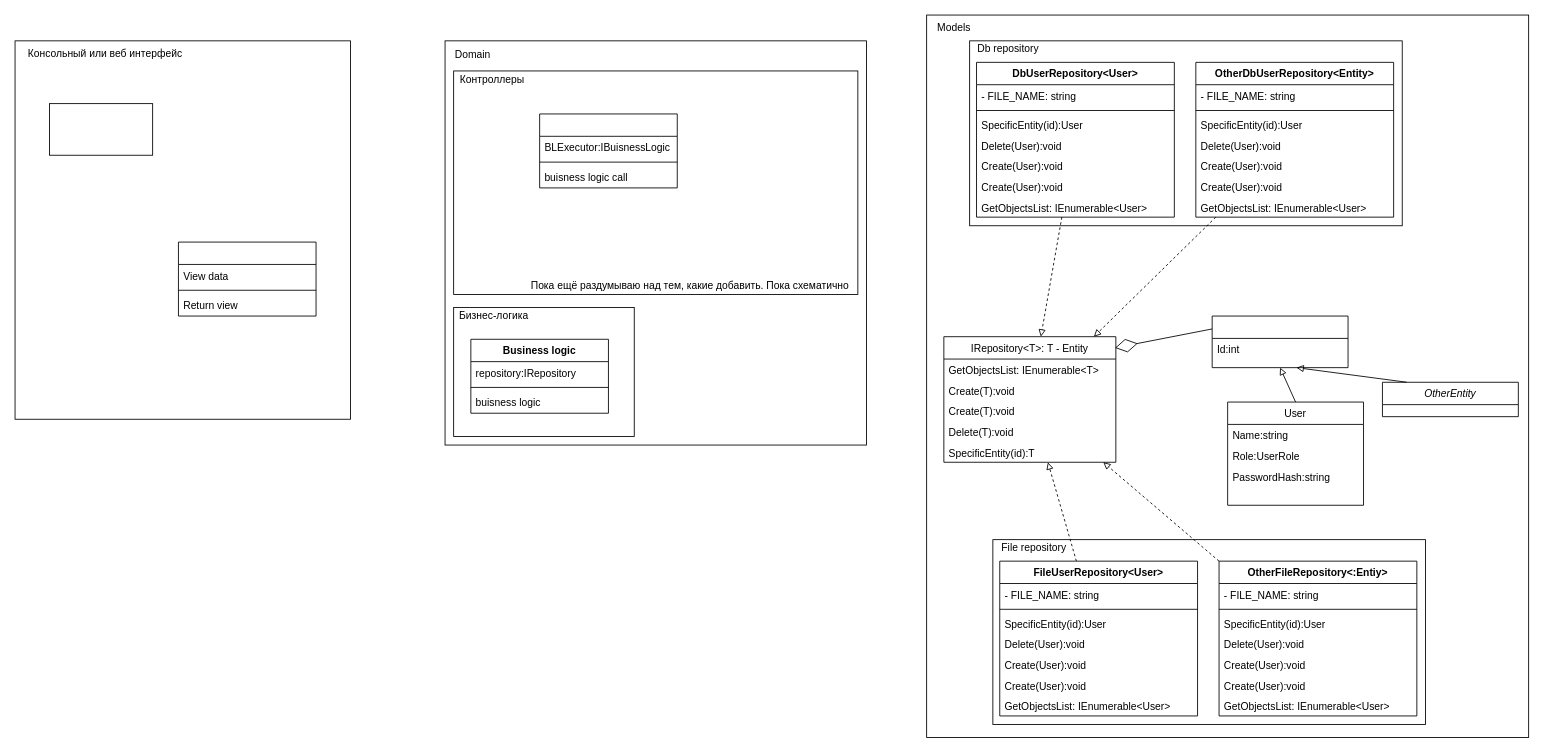
This 1544x753 diagram has some shape labels left out. The box of each missing label's shape, as (x1, y1, x2, y2) in pixels:
Controller: (539, 113, 677, 188)
Entity: (1211, 315, 1348, 368)
Presenter: (178, 241, 316, 316)
View: (49, 103, 153, 155)
